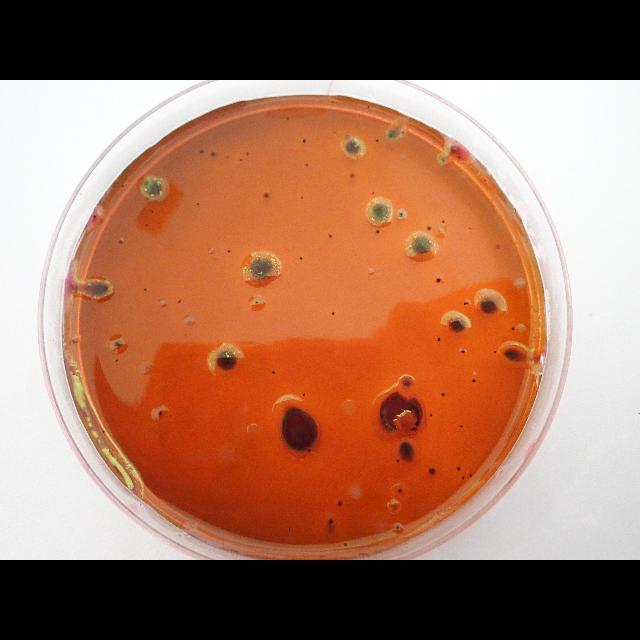colony: (278, 404, 320, 456), (379, 390, 423, 434), (246, 252, 280, 284), (82, 276, 116, 302), (138, 174, 170, 200), (368, 198, 394, 226), (500, 341, 524, 369), (410, 230, 434, 258), (215, 347, 238, 373), (481, 292, 501, 318), (448, 313, 468, 335), (398, 440, 416, 462), (344, 138, 362, 158), (400, 375, 416, 391), (386, 126, 398, 144), (112, 337, 125, 351), (396, 208, 406, 222), (396, 486, 404, 496), (262, 192, 272, 200), (349, 171, 357, 181), (440, 155, 448, 165), (393, 524, 402, 532), (428, 467, 437, 475), (336, 499, 344, 507), (327, 518, 335, 526), (210, 150, 218, 158), (434, 276, 442, 284), (343, 132, 351, 140), (439, 391, 446, 399), (329, 310, 336, 318), (118, 237, 124, 246), (343, 540, 349, 548), (460, 474, 466, 482), (436, 336, 442, 344), (463, 300, 469, 308), (510, 325, 516, 333), (142, 285, 148, 293), (199, 148, 205, 156), (370, 190, 376, 198), (426, 224, 432, 232), (495, 242, 501, 250), (298, 254, 304, 262), (270, 369, 276, 376), (395, 458, 401, 464), (429, 412, 435, 418), (492, 349, 498, 355), (460, 348, 466, 354), (114, 358, 120, 364), (177, 298, 183, 304), (92, 214, 98, 220), (304, 162, 310, 168), (301, 137, 307, 143), (327, 233, 333, 239), (375, 229, 381, 235), (226, 248, 232, 254), (254, 300, 260, 306), (460, 422, 464, 430), (302, 390, 306, 398), (102, 428, 106, 436), (245, 150, 249, 158), (300, 194, 304, 202), (288, 526, 292, 532), (456, 466, 460, 472), (469, 473, 473, 479), (386, 396, 390, 402), (472, 378, 476, 384), (308, 447, 312, 453), (158, 410, 162, 416), (168, 414, 174, 418), (144, 223, 150, 227), (150, 209, 154, 215), (121, 183, 125, 189), (226, 154, 230, 160), (286, 115, 290, 121), (375, 138, 379, 144), (442, 218, 446, 224), (402, 129, 406, 135), (358, 112, 362, 118), (330, 100, 334, 106), (366, 104, 369, 110), (407, 433, 411, 437), (109, 214, 113, 218), (196, 202, 200, 206), (239, 158, 243, 162), (332, 130, 336, 134), (468, 226, 472, 230), (438, 228, 440, 234)
